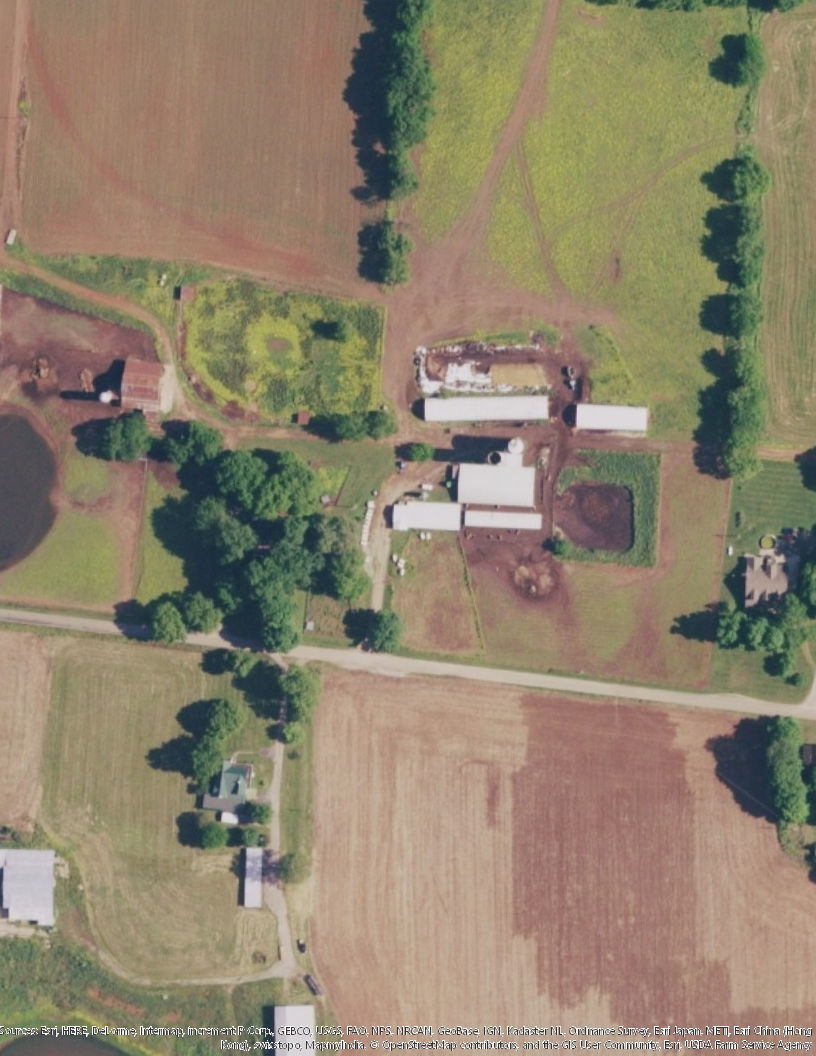cafo: (451, 444, 544, 513), (415, 391, 558, 424), (379, 494, 468, 538), (569, 400, 660, 436), (460, 510, 547, 533)
